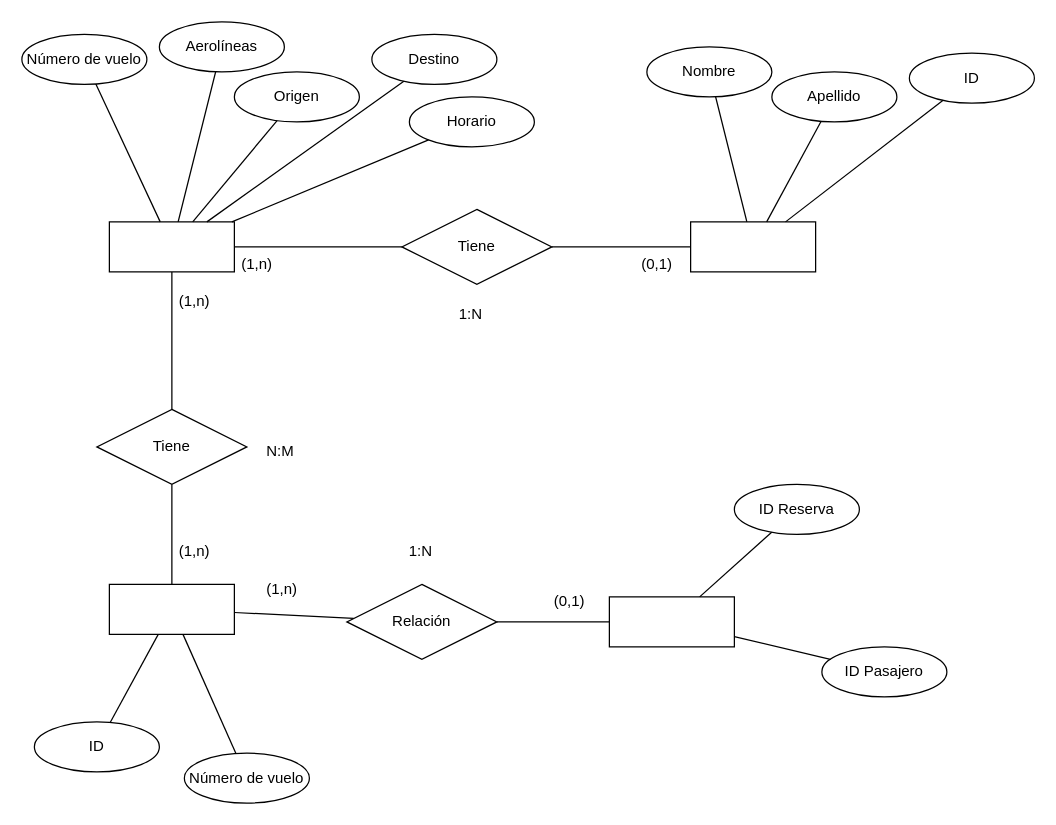
Image size: 1056x825. Some labels were removed from this diagram. The centre of each missing label's shape, as x and y in pixels:
"Detalle Reserva" goes at point (671, 621).
"Pasajero" goes at point (752, 246).
"Reserva" goes at point (171, 608).
"Vuelo" goes at point (171, 246).
